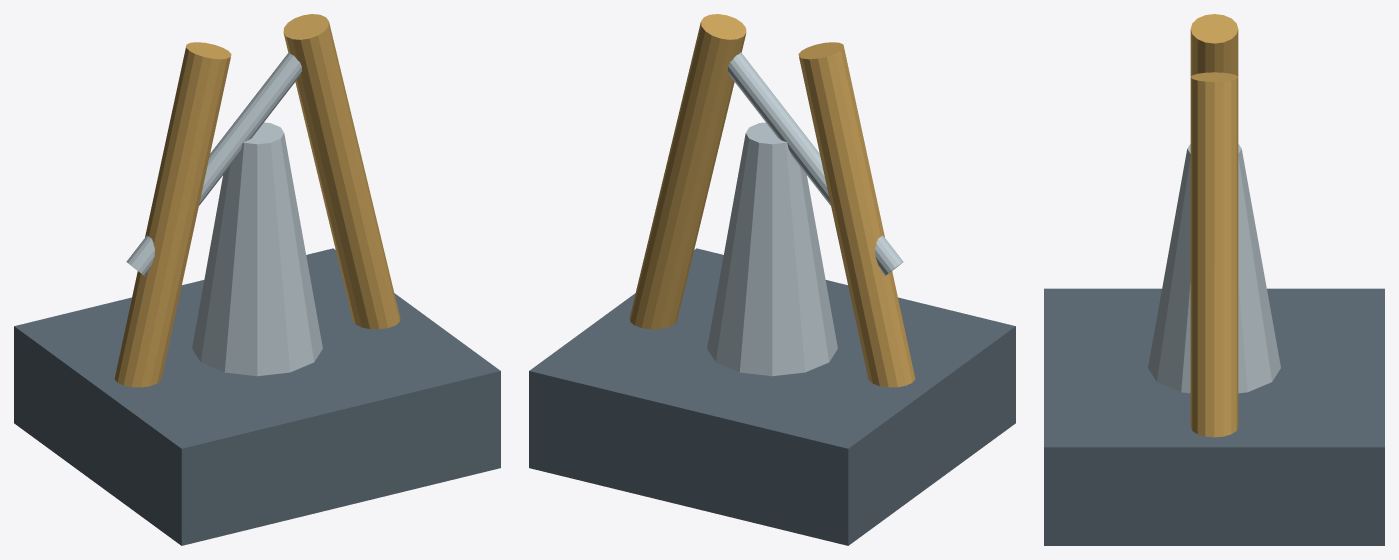
File: extractor.glb
3 views of the same model, side by side, from view 1: azimuth 30°, elevation 25°; view 2: azimuth 150°, elevation 25°; view 3: azimuth 270°, elevation 25° (orthographic).
Visible parts, largest first — view 1: mining rig base, drill, derrick, derrick.001, crossbrace; view 2: mining rig base, drill, derrick, derrick.001, crossbrace; view 3: mining rig base, derrick.001, drill, derrick.
Boxes of the visible parts, bbox=[...] form: mining rig base: bbox=[14, 248, 500, 545]; drill: bbox=[192, 122, 322, 376]; derrick: bbox=[114, 42, 231, 387]; derrick.001: bbox=[283, 14, 400, 329]; crossbrace: bbox=[126, 52, 301, 275]; mining rig base: bbox=[529, 248, 1015, 545]; drill: bbox=[707, 122, 837, 376]; derrick: bbox=[798, 42, 915, 387]; derrick.001: bbox=[629, 14, 746, 329]; crossbrace: bbox=[728, 52, 903, 275]; mining rig base: bbox=[1044, 288, 1384, 545]; derrick.001: bbox=[1190, 72, 1238, 437]; drill: bbox=[1148, 144, 1280, 393]; derrick: bbox=[1190, 14, 1238, 76].
Size of the model in its own units: 1.1 by 1.36 by 1.
